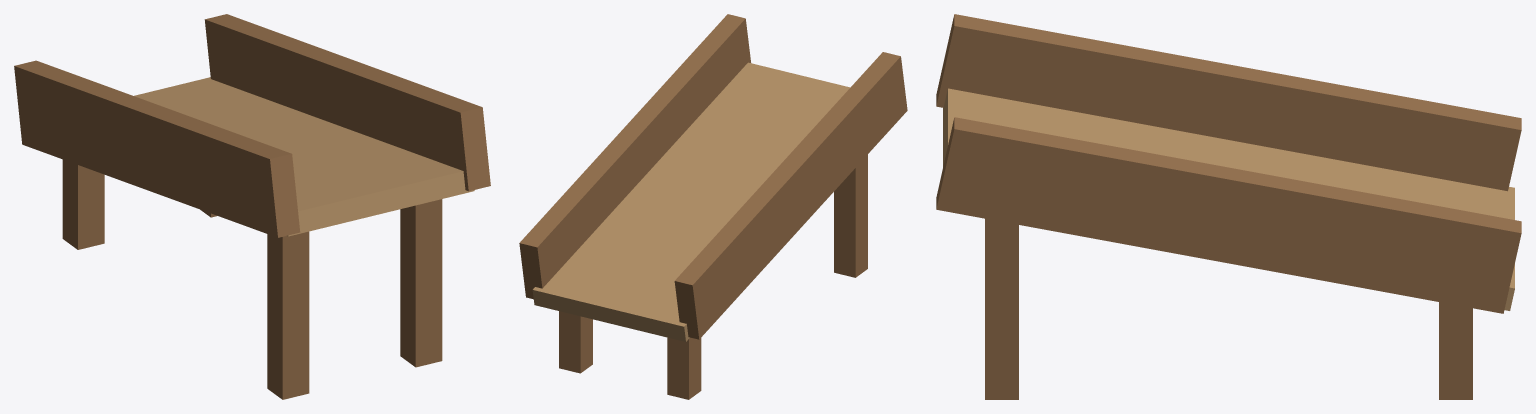
The model's file is vf_gravity_trough.glb.
3 renders of one model, left to right at view 1: azimuth 30°, elevation 25°; view 2: azimuth 150°, elevation 25°; view 3: azimuth 270°, elevation 25°, orthographic. The views are drawn at different scales.
Parts seen in each view (by area): view 1: Static; view 2: Static; view 3: Static.
Boxes of the visible parts, x1=… form: Static: x1=14, y1=14, x2=490, y2=399; Static: x1=519, y1=14, x2=907, y2=399; Static: x1=936, y1=14, x2=1521, y2=399.
Bounding box in the file's own units: 0.96 × 1.11 × 2.06.
